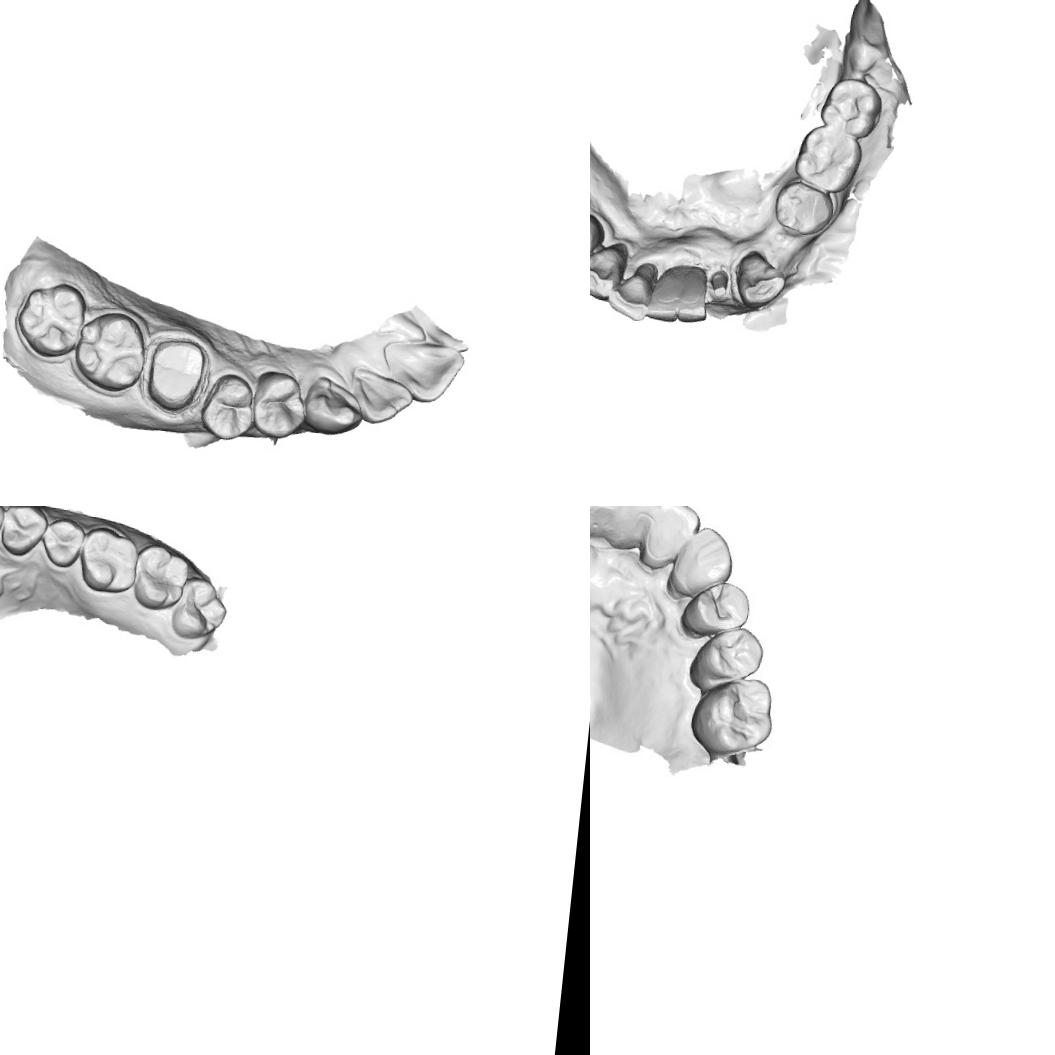abutment: (708, 268, 730, 298)
canine: (669, 520, 738, 595), (302, 371, 368, 440), (733, 247, 789, 312), (590, 237, 629, 304)
crown: (141, 332, 212, 416)
incisor: (373, 336, 468, 408), (348, 365, 418, 430), (605, 258, 658, 324), (641, 506, 701, 564), (602, 506, 668, 551), (646, 260, 683, 324), (676, 263, 711, 325)
molar: (685, 669, 778, 761), (69, 306, 152, 396), (12, 277, 93, 365), (791, 120, 866, 197), (76, 524, 141, 595), (816, 75, 884, 141), (130, 542, 192, 614), (169, 573, 231, 643)
premolar: (247, 367, 313, 444), (692, 621, 766, 688), (196, 368, 258, 444), (679, 577, 751, 642), (771, 178, 836, 238), (38, 514, 88, 570), (0, 506, 50, 559), (590, 206, 607, 271)
